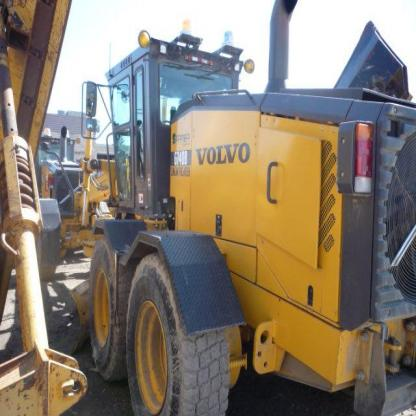bull_dozer/loader/grader: (46, 33, 416, 415)
